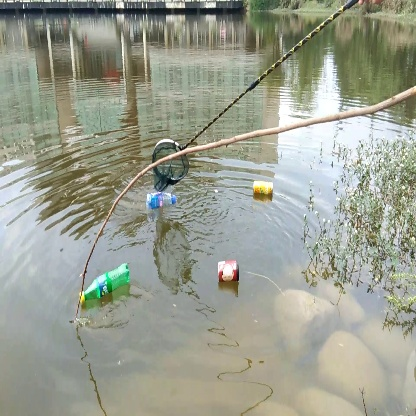bottle: (81, 261, 132, 304), (213, 253, 244, 286), (145, 187, 182, 212), (246, 175, 278, 201)
